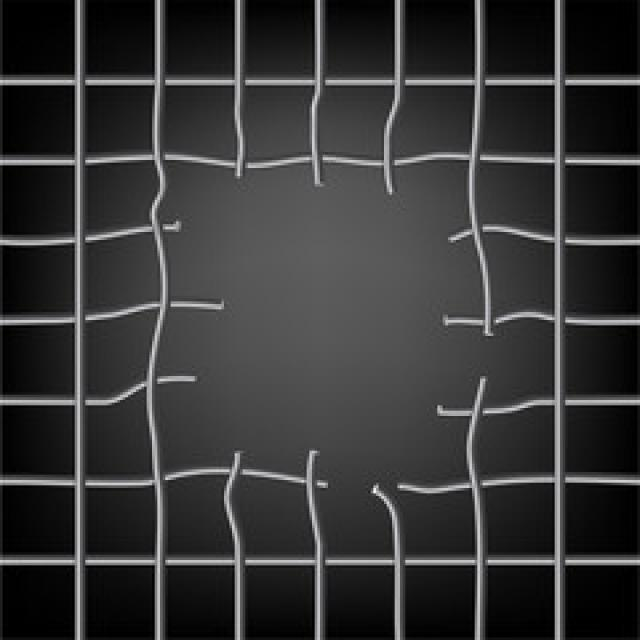fence line: (152, 149, 488, 499)
